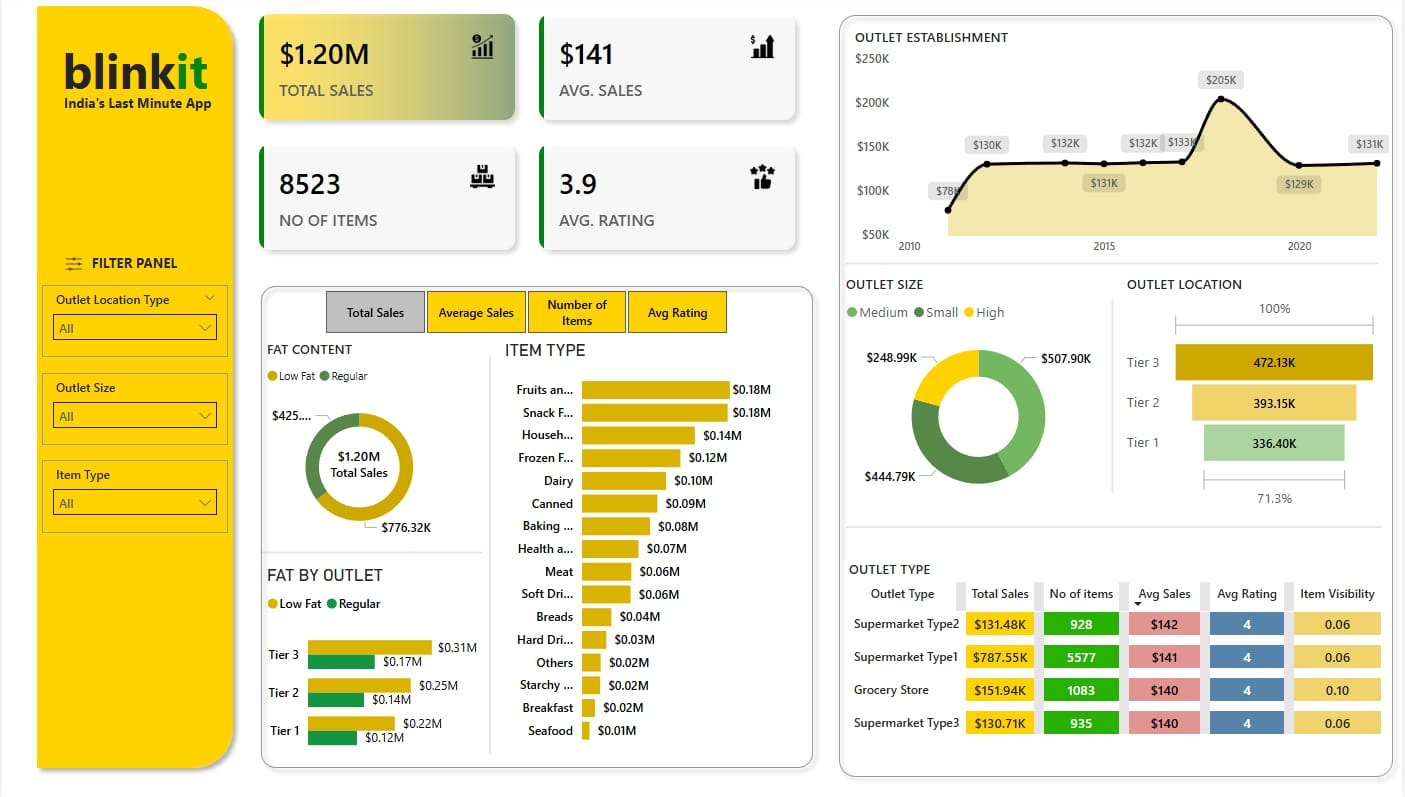

This screenshot's page, from the dashboard's own definition file:
{"tool":"powerbi","page":{"name":"Page 1","canvas":[1400,800],"ordinal":0},"visuals":[{"type":"shape","box":[25.6,0,214.4,780],"z":0},{"type":"textbox","box":[370.7,630.4,127.6,169.6],"z":1000},{"type":"textbox","box":[25.5,34.5,214.6,91.6],"z":2000},{"type":"textbox","box":[57,91.6,172.6,34.5],"z":3000},{"type":"cardVisual","fields":{"Data":["BlinkIT Grocery Data.Total Sales","BlinkIT Grocery Data.Average Sales","BlinkIT Grocery Data.Number of Items","BlinkIT Grocery Data.Avg Rating"]},"box":[240.4,0,570.2,270.2],"z":4000},{"type":"shape","box":[827.8,8.9,572.2,780],"z":5000},{"type":"donutChart","title":"FAT CONTENT","fields":{"Y":["BlinkIT Grocery Data.Total Sales"],"Category":["BlinkIT Grocery Data.Item Fat Content"]},"box":[259.6,342.6,195.7,210.6],"z":6000},{"type":"slicer","title":"FAT BY OUTLET","fields":{"Values":["Metrics.Metrics"]},"box":[297.9,287.2,451.1,55.3],"z":7000},{"type":"cardVisual","fields":{"Data":["BlinkIT Grocery Data.Total Sales"]},"box":[310.6,433,92.6,61.7],"z":8000},{"type":"clusteredBarChart","title":"FAT BY OUTLET","fields":{"Y":["BlinkIT Grocery Data.Total Sales"],"Category":["BlinkIT Grocery Data.Outlet Location Type"],"Series":["BlinkIT Grocery Data.Item Fat Content"]},"box":[259.6,568.1,220.2,202.1],"z":9000},{"type":"shape","box":[259.6,542.6,220.2,25.5],"z":10000},{"type":"shape","box":[477.7,358.5,20.2,398.9],"z":11000},{"type":"barChart","title":"ITEM TYPE","fields":{"Y":["BlinkIT Grocery Data.Total Sales"],"Category":["BlinkIT Grocery Data.Item Type"]},"box":[497.9,342.6,276.6,414.9],"z":12000},{"type":"shape","box":[250,279.8,570.2,500],"z":13000},{"type":"lineChart","title":"OUTLET ESTABLISHMENT","fields":{"Category":["BlinkIT Grocery Data.Outlet Establishment Year"],"Y":["BlinkIT Grocery Data.Total Sales"]},"box":[847.8,31.1,544.4,235.6],"z":14000},{"type":"shape","box":[844.4,252.2,531.1,28.9],"z":15000},{"type":"donutChart","title":"OUTLET SIZE","fields":{"Category":["BlinkIT Grocery Data.Outlet Size"],"Y":["BlinkIT Grocery Data.Total Sales"]},"box":[838.9,277.8,275.6,237.8],"z":16000},{"type":"shape","box":[1101.1,303.3,18.9,192.2],"z":17000},{"type":"funnel","title":"OUTLET LOCATION","fields":{"Category":["BlinkIT Grocery Data.Outlet Location Type"],"Y":["Sum(BlinkIT Grocery Data.Sales)"]},"box":[1120,277.8,261.1,237.8],"z":18000},{"type":"shape","box":[844.4,515.6,535.6,28.9],"z":19000},{"type":"pivotTable","title":"OUTLET TYPE","fields":{"Rows":["BlinkIT Grocery Data.Outlet Type"],"Values":["BlinkIT Grocery Data.Total Sales","BlinkIT Grocery Data.Number of Items","BlinkIT Grocery Data.Average Sales","BlinkIT Grocery Data.Avg Rating","Avg(BlinkIT Grocery Data.Item Visibility)"]},"box":[842.2,563.3,543.3,211.1],"z":20000},{"type":"slicer","fields":{"Values":["BlinkIT Grocery Data.Outlet Location Type"]},"box":[40,287.8,185.6,72.2],"z":21000},{"type":"slicer","fields":{"Values":["BlinkIT Grocery Data.Outlet Size"]},"box":[40,375.6,185.6,72.2],"z":22000},{"type":"slicer","fields":{"Values":["BlinkIT Grocery Data.Item Type"]},"box":[40,463.3,185.6,72.2],"z":23000},{"type":"textbox","box":[79.4,251.9,106.2,35.6],"z":23001},{"type":"image","box":[56.9,253.1,29.4,27.5],"z":23002}]}

Visuals, with their boxes in screenshot pixels (x1, y1, x2, y2), scaled from the page's 1400x800 canvas onto the 1405x797 screenshot:
shape: 26 0 241 777
textbox: 372 628 500 796
textbox: 26 34 241 126
textbox: 57 91 230 126
cardVisual - BlinkIT Grocery Data.Total Sales x BlinkIT Grocery Data.Average Sales: 241 0 813 269
shape: 831 9 1404 786
"FAT CONTENT" donutChart: 261 341 457 551
"FAT BY OUTLET" slicer: 299 286 752 341
cardVisual - BlinkIT Grocery Data.Total Sales: 312 431 405 493
"FAT BY OUTLET" clusteredBarChart: 261 566 482 767
shape: 261 541 482 566
shape: 479 357 500 755
"ITEM TYPE" barChart: 500 341 777 755
shape: 251 279 823 777
"OUTLET ESTABLISHMENT" lineChart: 851 31 1397 266
shape: 847 251 1380 280
"OUTLET SIZE" donutChart: 842 277 1118 514
shape: 1105 302 1124 494
"OUTLET LOCATION" funnel: 1124 277 1386 514
shape: 847 514 1385 542
"OUTLET TYPE" pivotTable: 845 561 1390 771
slicer - BlinkIT Grocery Data.Outlet Location Type: 40 287 226 359
slicer - BlinkIT Grocery Data.Outlet Size: 40 374 226 446
slicer - BlinkIT Grocery Data.Item Type: 40 462 226 533
textbox: 80 251 186 286
image: 57 252 87 280
